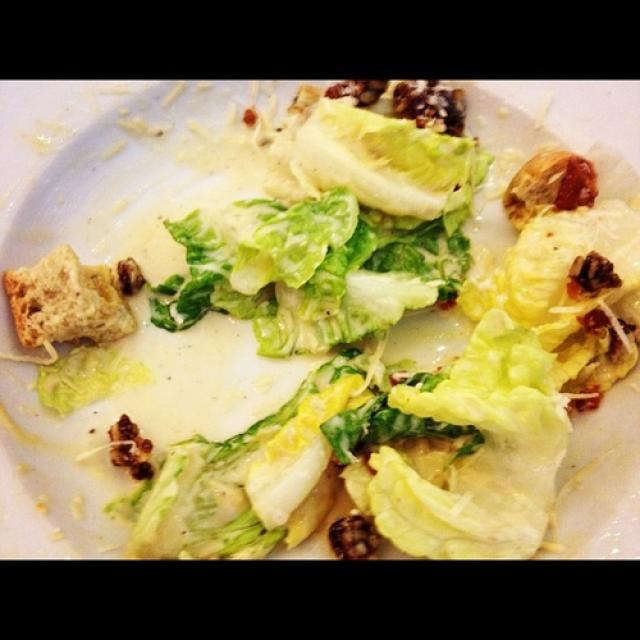蔬菜料理: (23, 77, 631, 549)
